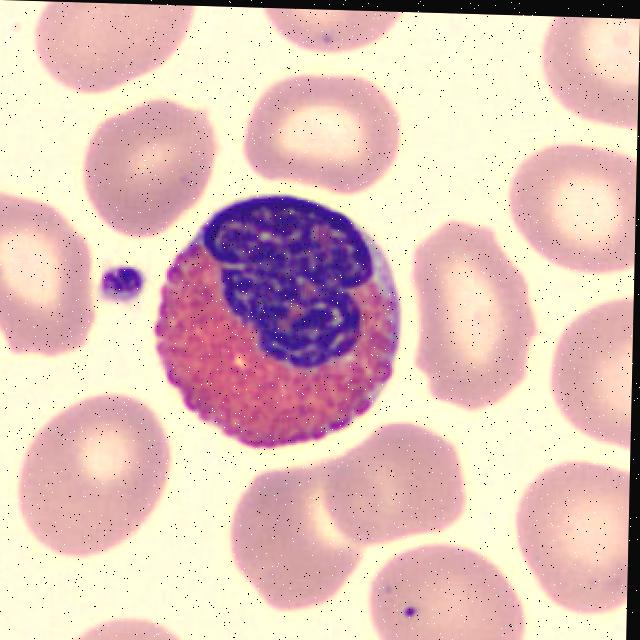eosinophil: (146, 179, 419, 470)
platelets: (96, 253, 142, 308)
rbc: (16, 389, 179, 569), (408, 216, 541, 419), (229, 57, 409, 202), (221, 459, 364, 622), (499, 450, 630, 619), (493, 135, 637, 283), (0, 188, 112, 368), (80, 100, 215, 243), (324, 417, 468, 548), (363, 544, 539, 640), (33, 1, 193, 101), (544, 294, 634, 460), (522, 16, 640, 135), (250, 7, 409, 58), (53, 607, 212, 640)
